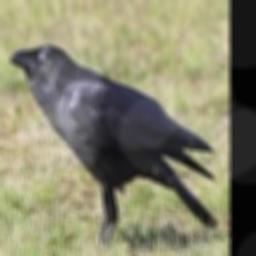Crow: (11, 44, 217, 249)
